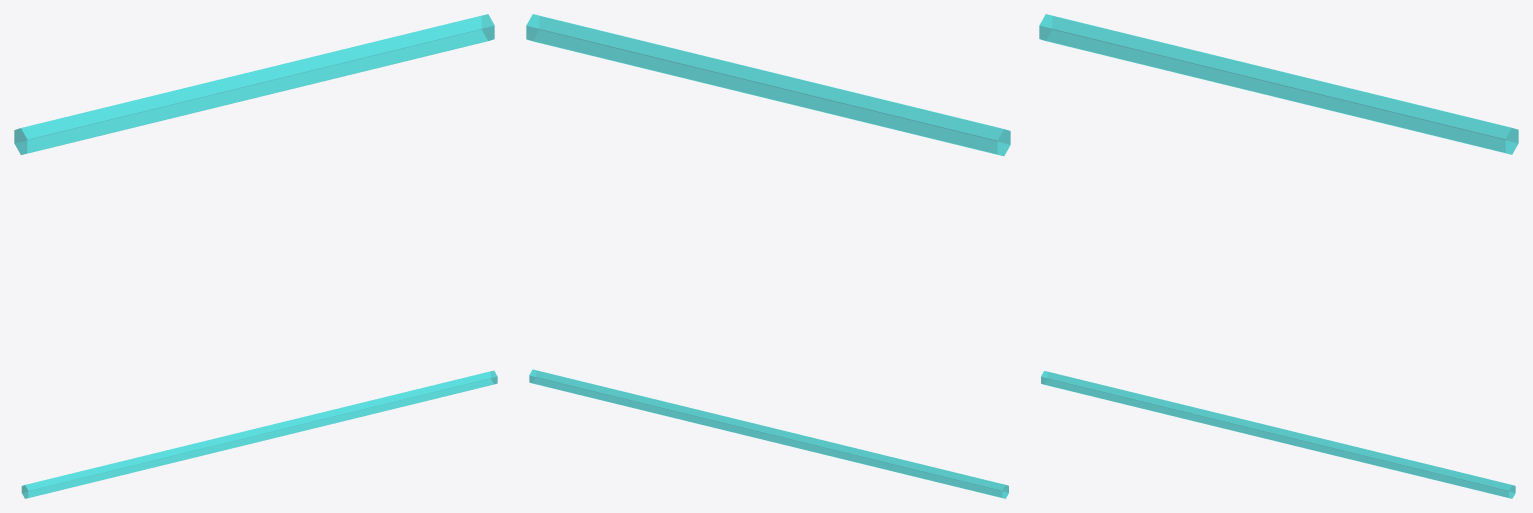
Rendered from SM_Veh_Boat_Large_01_Sail_01_Collision.fbx.
3 renders of one model, left to right at view 1: azimuth 30°, elevation 25°; view 2: azimuth 150°, elevation 25°; view 3: azimuth 330°, elevation 25°, orthographic.
Parts seen in each view (by area): view 1: SM_Veh_Boat_Large_01_Sail_01_Collision; view 2: SM_Veh_Boat_Large_01_Sail_01_Collision; view 3: SM_Veh_Boat_Large_01_Sail_01_Collision.
Part boxes in pixels (left/top/right/bottom): SM_Veh_Boat_Large_01_Sail_01_Collision: left=14, top=14, right=497, bottom=498; SM_Veh_Boat_Large_01_Sail_01_Collision: left=526, top=14, right=1010, bottom=498; SM_Veh_Boat_Large_01_Sail_01_Collision: left=1039, top=14, right=1518, bottom=498.
Size of the model in its own units: 1074 by 806 by 51.43.
